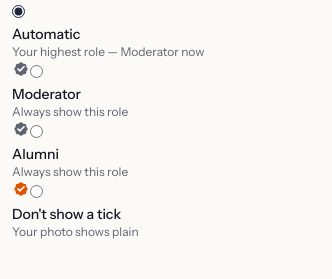
BadgeRolePicker › puts the old choice back when saving fails
The image size is (332, 279).
Click the radio button labelled "Alumni Always show this role".
click(36, 132)  # box [30,125,43,138]
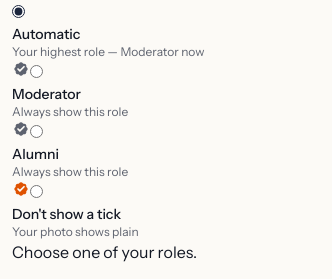
Expected: the radio button labelled "Automatic Your highest role — Moderator now" is checked, [12,5,25,18]
Expected: the message shows "Choose one", [12,242,197,262]
